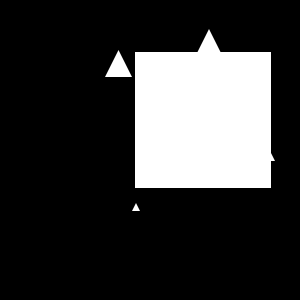circle: (135, 52, 271, 188)
triangle: (143, 29, 275, 161), (105, 50, 132, 77), (132, 203, 140, 211)
